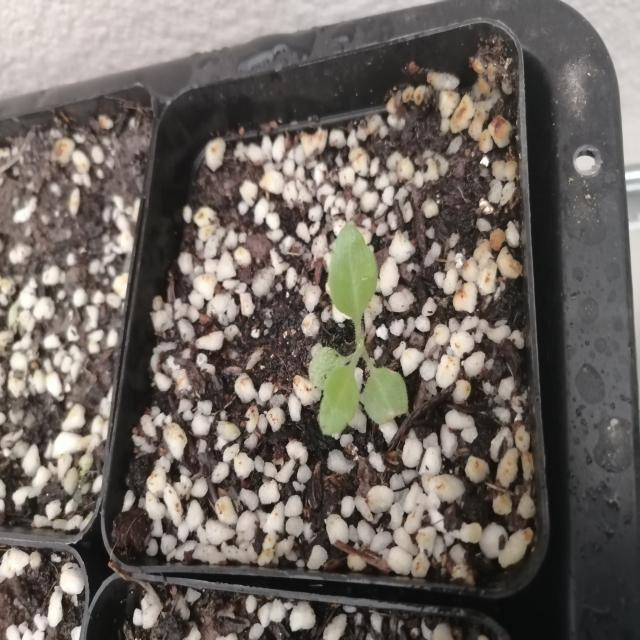horseweed: (294, 230, 426, 440)
